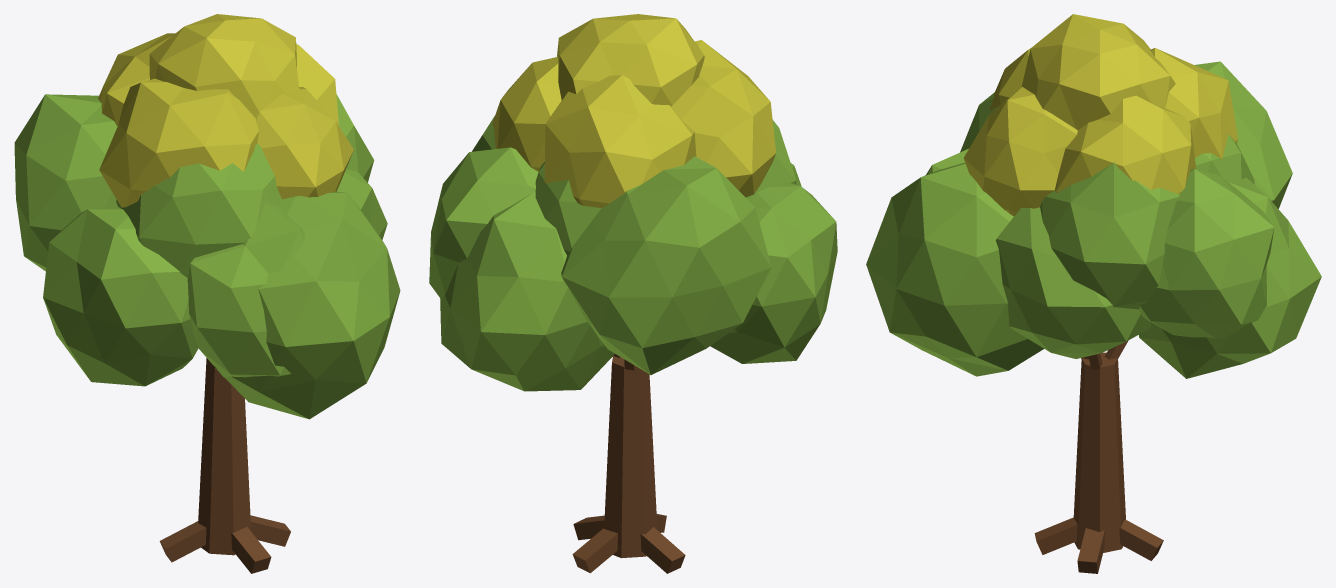
The model's file is Tree_Broadleaf_Lime.fbx.
3 views of the same model, side by side, from view 1: azimuth 30°, elevation 25°; view 2: azimuth 150°, elevation 25°; view 3: azimuth 270°, elevation 25° (orthographic). The views are drawn at different scales.
Parts seen in each view (by area): view 1: Tree_Broadleaf_Lime; view 2: Tree_Broadleaf_Lime; view 3: Tree_Broadleaf_Lime.
Part boxes in pixels (x1,y1,x2,y2): Tree_Broadleaf_Lime: (14, 14, 400, 573); Tree_Broadleaf_Lime: (429, 14, 837, 573); Tree_Broadleaf_Lime: (866, 14, 1321, 573).
Size of the model in its own units: 3.74 by 5.75 by 4.57.
